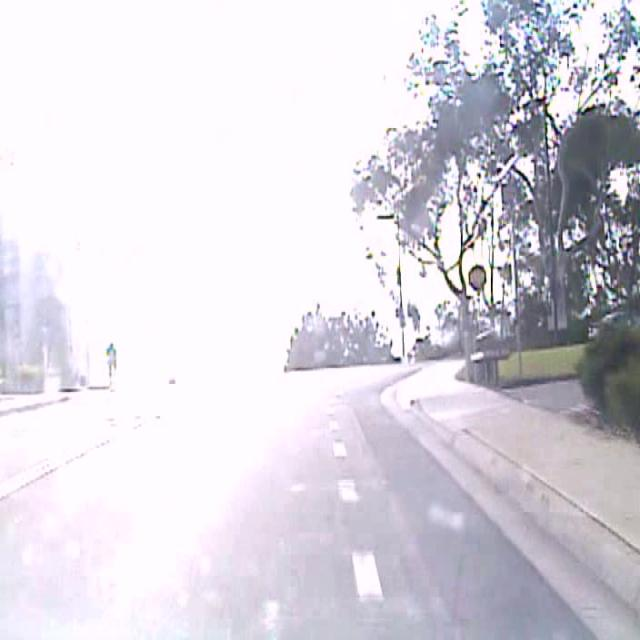stop: (468, 264, 486, 291)
